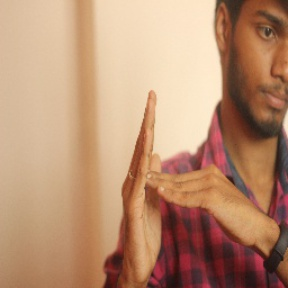Z: (114, 89, 246, 274)
